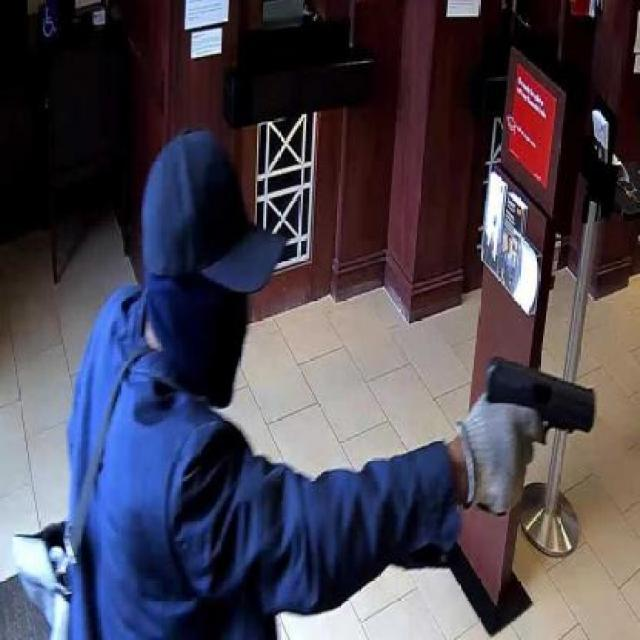weapon: (475, 346, 600, 526)
